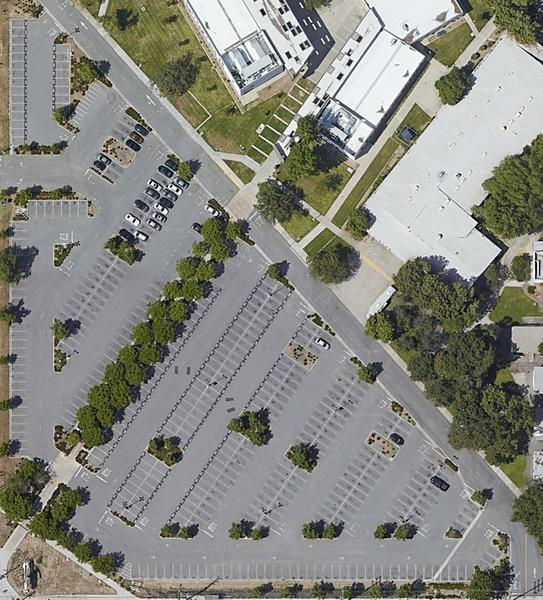parkingspot: (53, 201, 224, 436), (84, 237, 253, 472), (169, 282, 295, 454), (155, 272, 280, 444), (163, 426, 246, 537), (182, 437, 261, 540), (55, 257, 133, 360), (290, 359, 364, 456), (306, 441, 380, 537), (130, 563, 476, 582), (377, 447, 447, 539), (325, 451, 394, 540), (305, 376, 374, 465), (113, 156, 181, 245), (235, 455, 299, 536), (55, 247, 118, 329), (399, 462, 458, 538), (254, 465, 313, 540), (55, 520, 130, 577), (10, 221, 28, 458), (243, 351, 298, 420), (257, 362, 312, 430), (105, 450, 160, 518), (120, 460, 174, 528), (10, 18, 28, 147), (51, 43, 71, 116), (449, 498, 483, 537), (27, 200, 88, 219), (290, 316, 321, 350), (305, 326, 336, 360), (474, 543, 505, 576), (386, 418, 417, 451), (109, 111, 139, 145), (372, 408, 403, 440), (122, 122, 151, 155), (102, 159, 128, 185), (88, 149, 114, 175)
